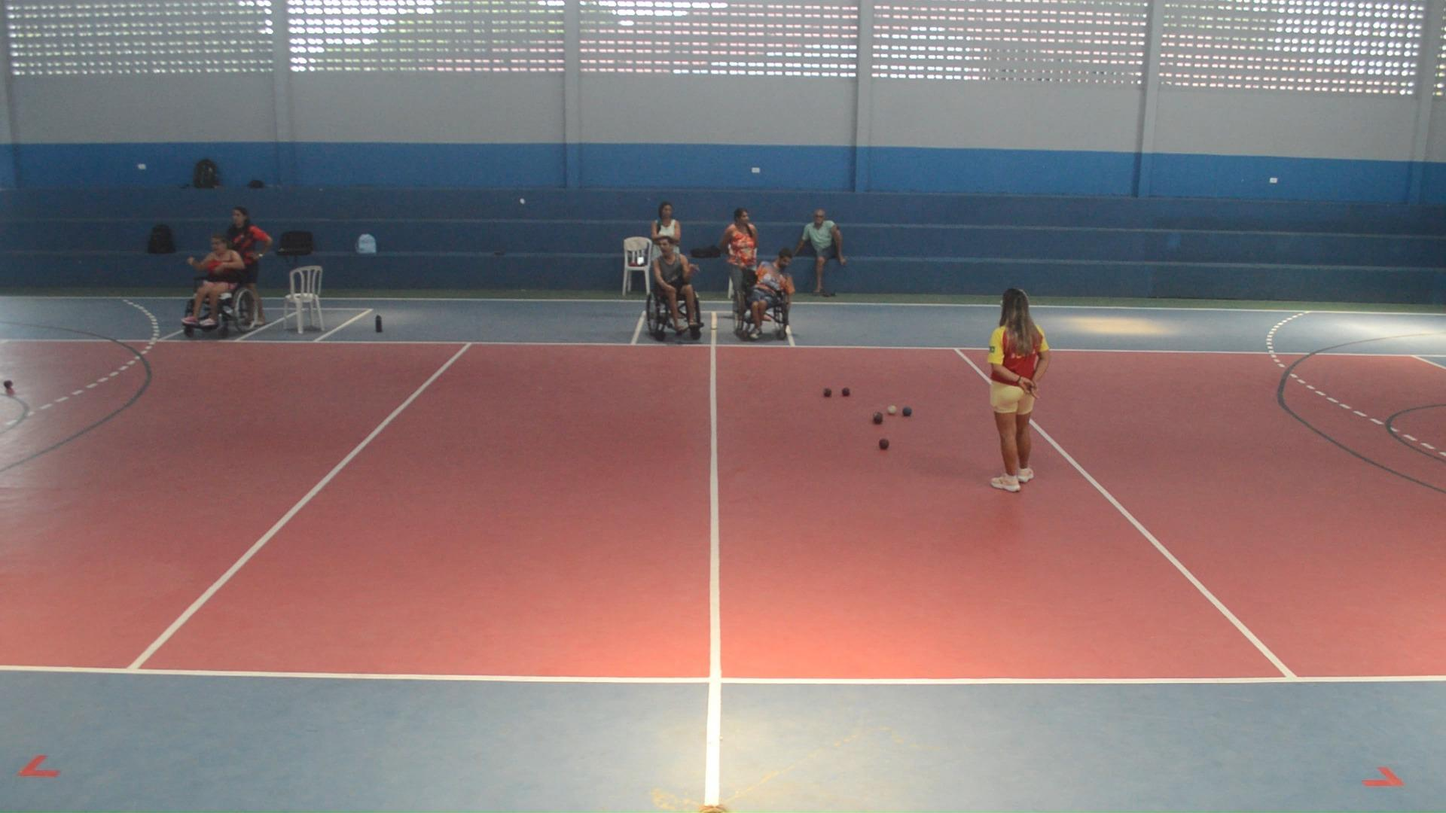blue_ball: (901, 406, 913, 418)
red_ball: (878, 437, 891, 451), (872, 412, 884, 425), (841, 386, 852, 398), (822, 388, 832, 398)
white_ball: (886, 405, 898, 416)
